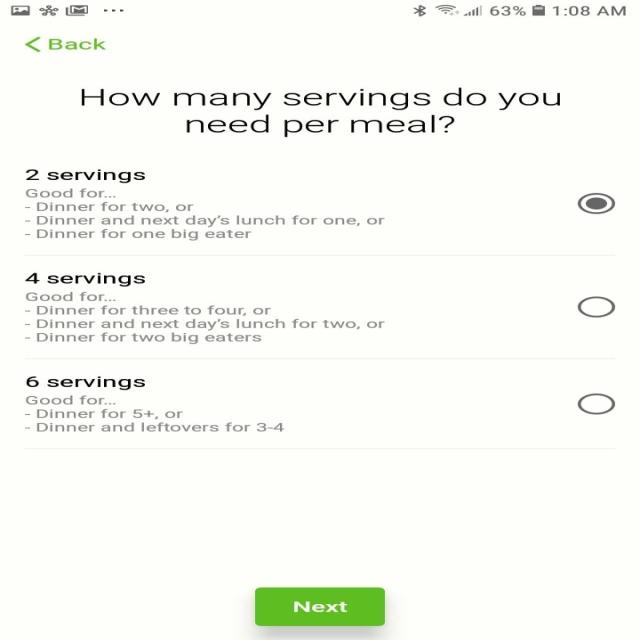Icon: (24, 36, 41, 52)
Text: (81, 87, 560, 137), (24, 188, 385, 241), (24, 292, 385, 344), (23, 395, 284, 432), (25, 168, 145, 183), (26, 375, 145, 390), (25, 272, 146, 286), (48, 38, 106, 50)
TextButton: (254, 587, 385, 626)
